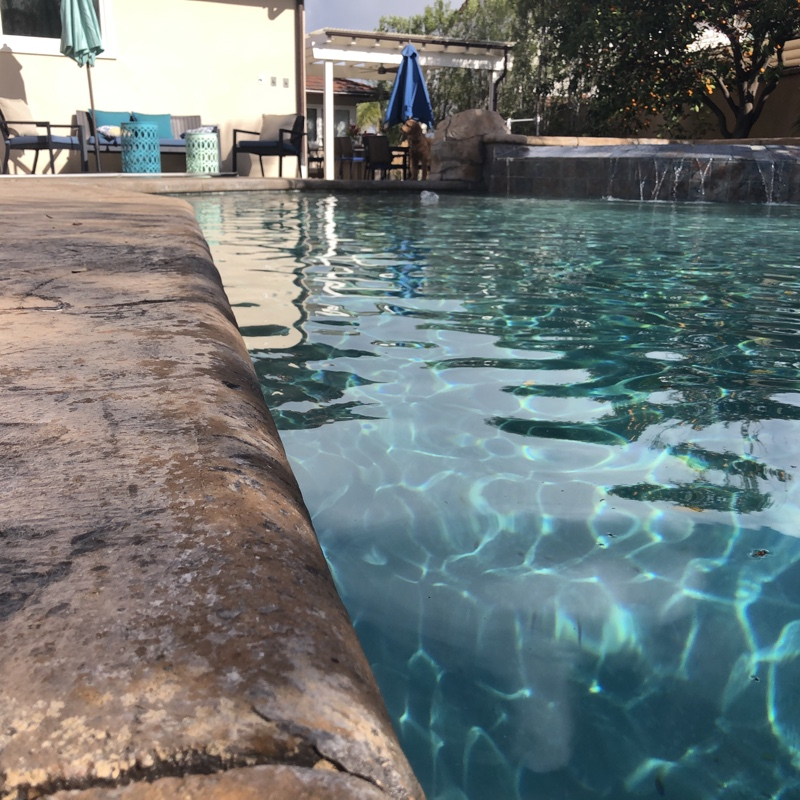Plastic Bottle: (416, 187, 441, 208)
